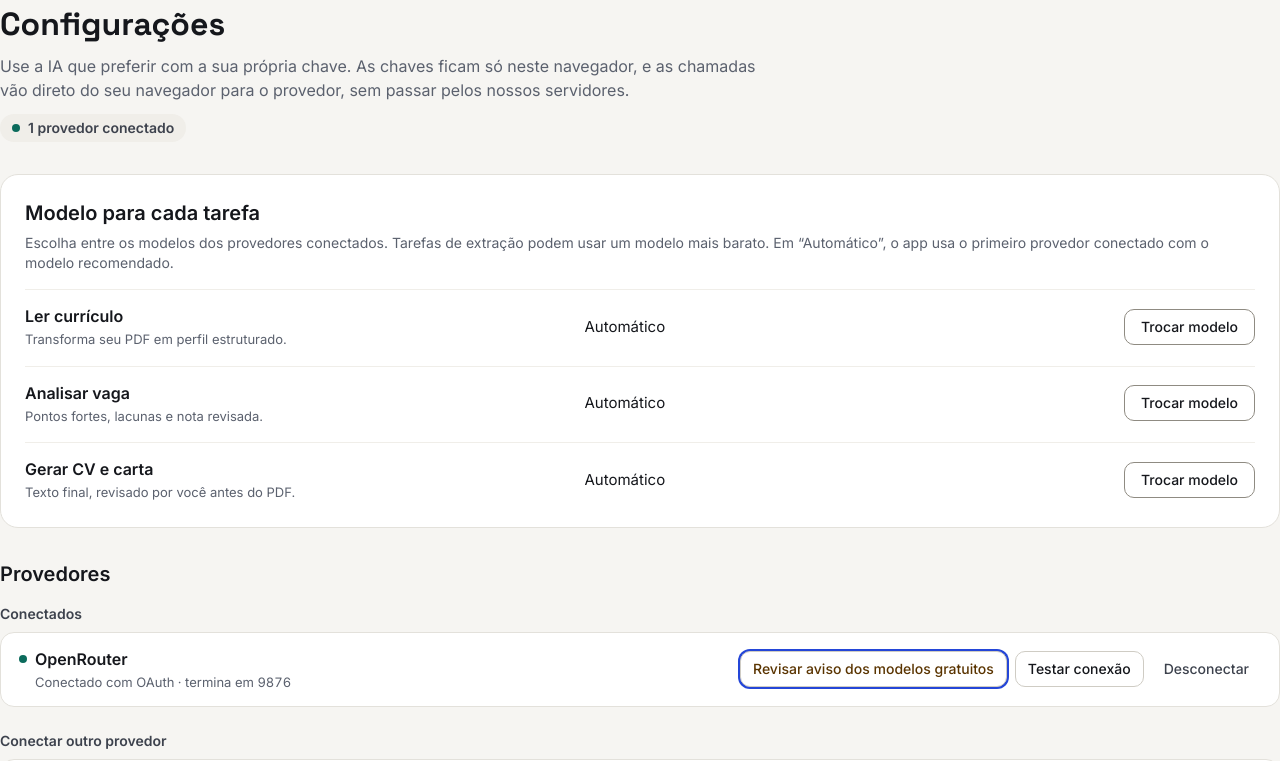
it: AiSettingsScreen: foco após reordenar › cancelar o aviso devolve o foco ao botão que o abriu
Click the button "Revisar aviso dos modelos gratuitos": (873, 669) [740,651,1007,687]
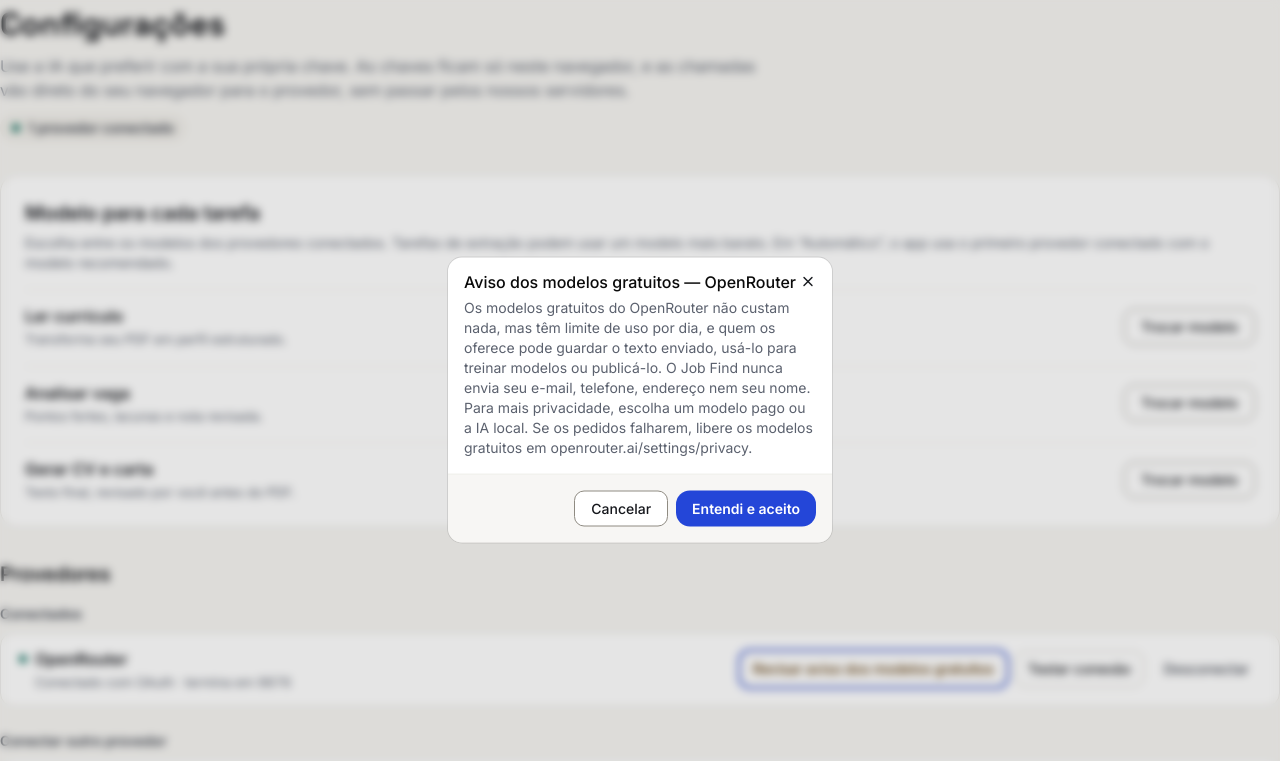
Click the button "Cancelar": (621, 508) [574,490,668,526]
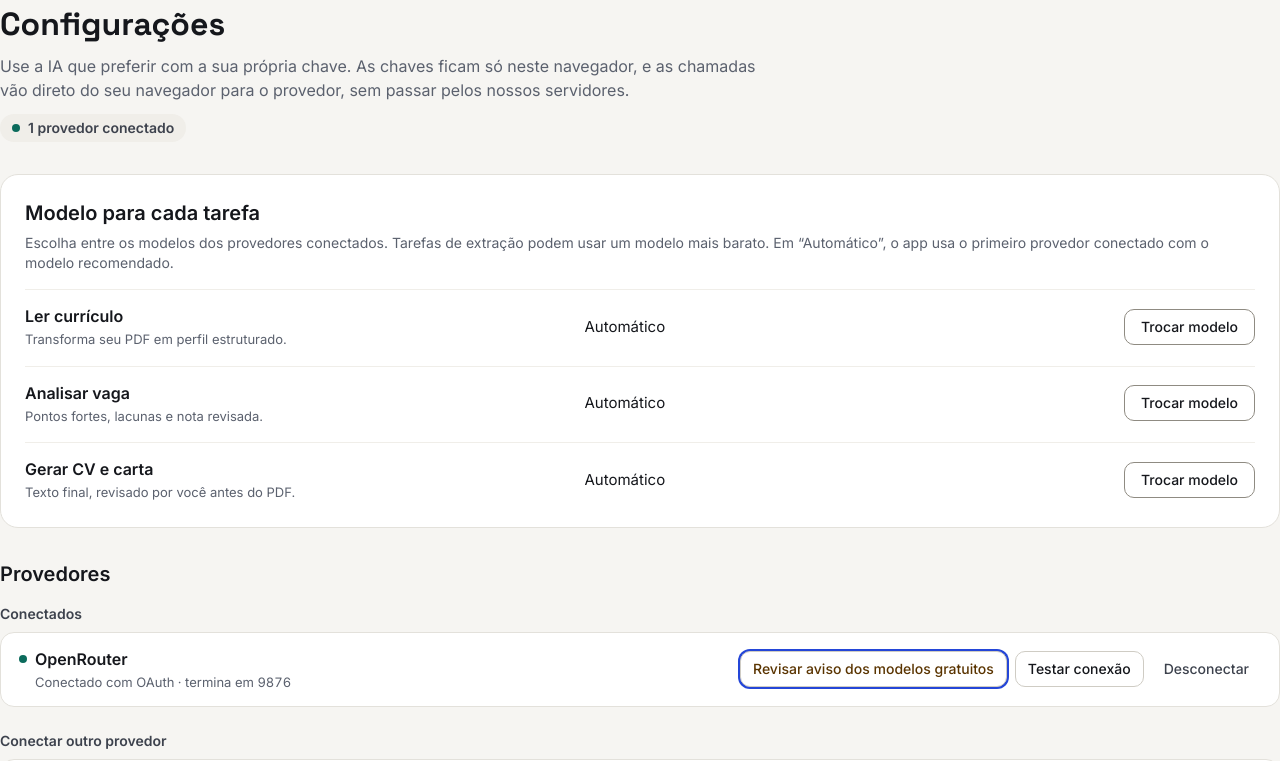
Now the dialog is gone
